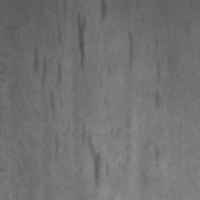inclusion: (24, 47, 65, 130), (78, 127, 117, 189), (69, 10, 93, 77), (120, 27, 139, 76), (96, 1, 112, 27), (153, 56, 166, 85), (150, 142, 163, 171), (152, 88, 164, 111)
